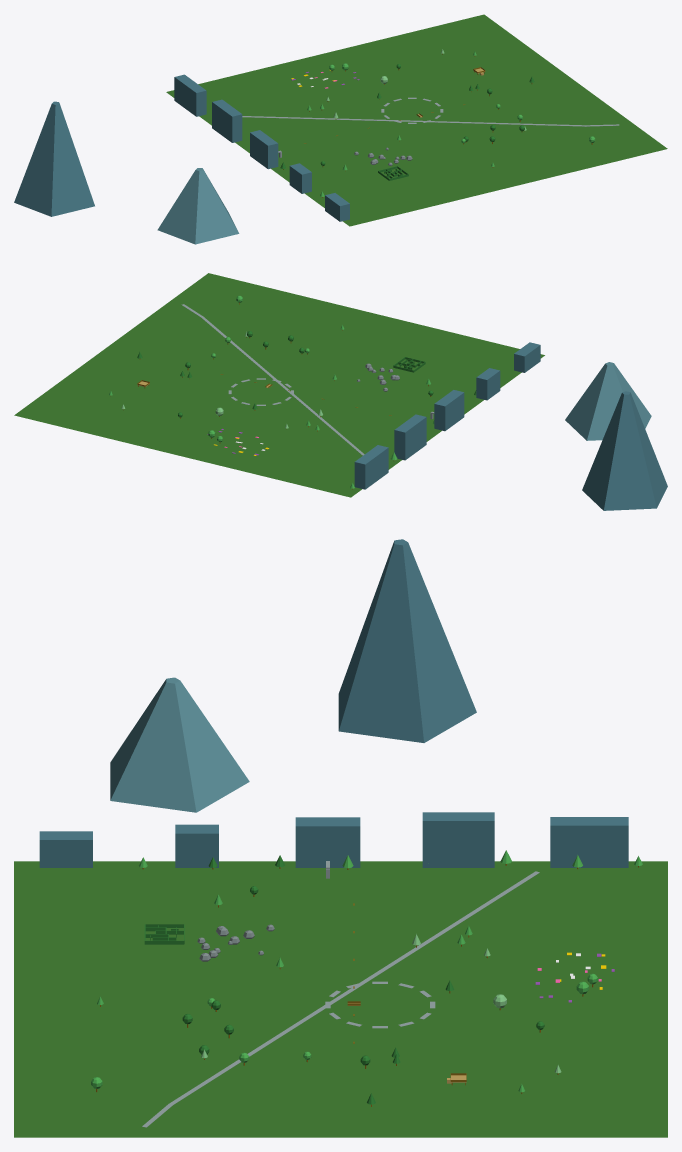
The model's file is sector_r2_c0.glb.
The picture shows the model from 3 angles, top to bottom: view 1: azimuth 30°, elevation 25°; view 2: azimuth 150°, elevation 25°; view 3: azimuth 270°, elevation 25°; orthographic projection. The views are drawn at different scales.
Visible parts, largest first — view 1: GROUND_r2_c0, MOUNTAIN_21, MOUNTAIN_22, WALL_WestCliff_8, WALL_WestCliff_9, WALL_WestCliff_7, WALL_WestCliff_6, WALL_WestCliff_5; view 2: GROUND_r2_c0, MOUNTAIN_21, MOUNTAIN_22, WALL_WestCliff_8, WALL_WestCliff_9, WALL_WestCliff_7, WALL_WestCliff_6, WALL_WestCliff_5; view 3: GROUND_r2_c0, MOUNTAIN_21, MOUNTAIN_22, WALL_WestCliff_8, WALL_WestCliff_9, WALL_WestCliff_7, WALL_WestCliff_5, WALL_WestCliff_6.
Boxes of the visible parts, <box> form: GROUND_r2_c0: <box>166,14,667,226</box>; MOUNTAIN_21: <box>14,101,94,216</box>; MOUNTAIN_22: <box>157,168,239,244</box>; WALL_WestCliff_8: <box>212,99,242,142</box>; WALL_WestCliff_9: <box>174,74,206,116</box>; WALL_WestCliff_7: <box>250,130,278,169</box>; WALL_WestCliff_6: <box>289,163,311,193</box>; WALL_WestCliff_5: <box>325,193,349,221</box>; GROUND_r2_c0: <box>14,273,544,497</box>; MOUNTAIN_21: <box>582,391,667,510</box>; MOUNTAIN_22: <box>565,362,651,440</box>; WALL_WestCliff_8: <box>394,414,426,460</box>; WALL_WestCliff_9: <box>354,445,388,489</box>; WALL_WestCliff_7: <box>434,390,464,431</box>; WALL_WestCliff_6: <box>476,368,500,400</box>; WALL_WestCliff_5: <box>514,342,540,372</box>; GROUND_r2_c0: <box>14,861,667,1137</box>; MOUNTAIN_21: <box>338,539,476,742</box>; MOUNTAIN_22: <box>110,677,249,812</box>; WALL_WestCliff_8: <box>422,812,494,867</box>; WALL_WestCliff_9: <box>550,817,628,867</box>; WALL_WestCliff_7: <box>295,817,360,867</box>; WALL_WestCliff_5: <box>39,831,92,867</box>; WALL_WestCliff_6: <box>175,824,218,867</box>.
Bounding box in the file's own units: 423 × 71.79 × 250.
